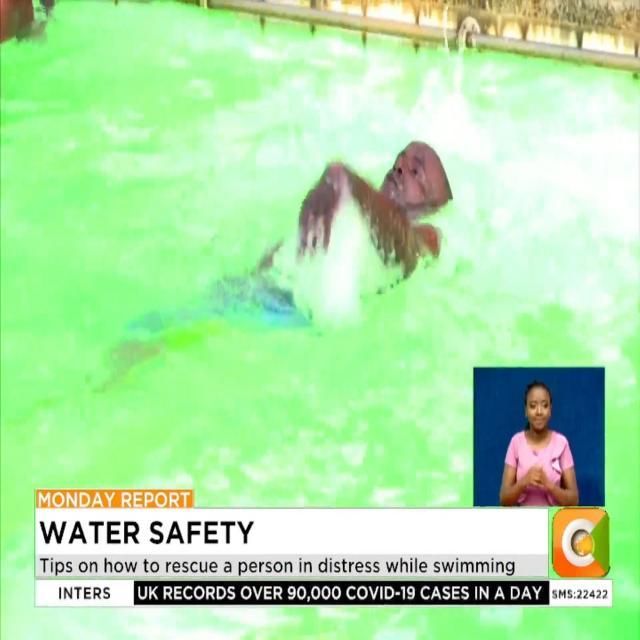swimming: (121, 117, 451, 332)
